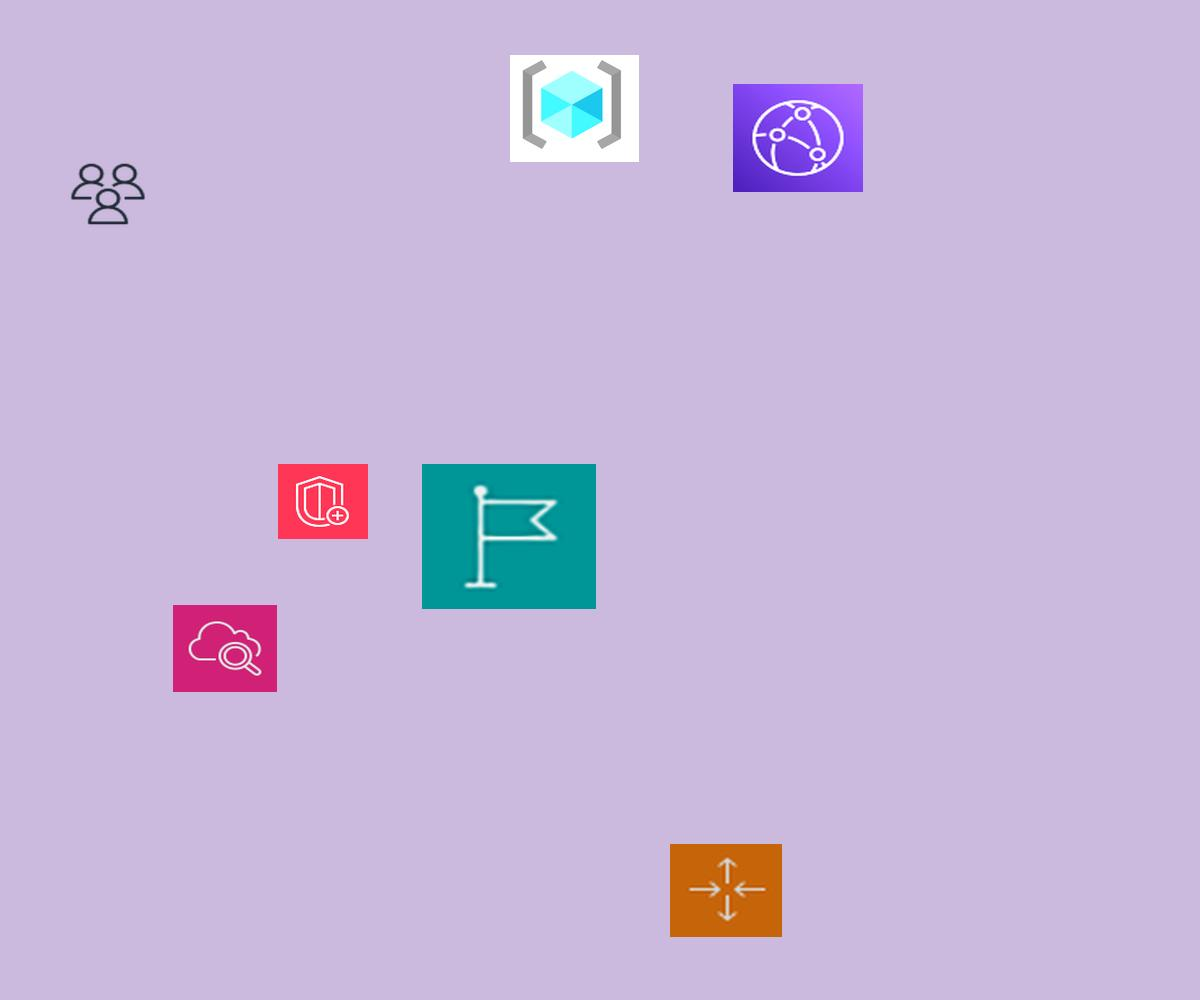AWS-CloudFront: (733, 84, 863, 192)
AWS-CloudWatch: (173, 605, 277, 692)
AWS-Region: (422, 464, 596, 609)
AWS-Res_Users: (68, 161, 148, 227)
AWS-Scaling-group: (670, 844, 782, 937)
AWS-Shield: (278, 464, 368, 539)
Azure_resource_group: (510, 55, 639, 162)
